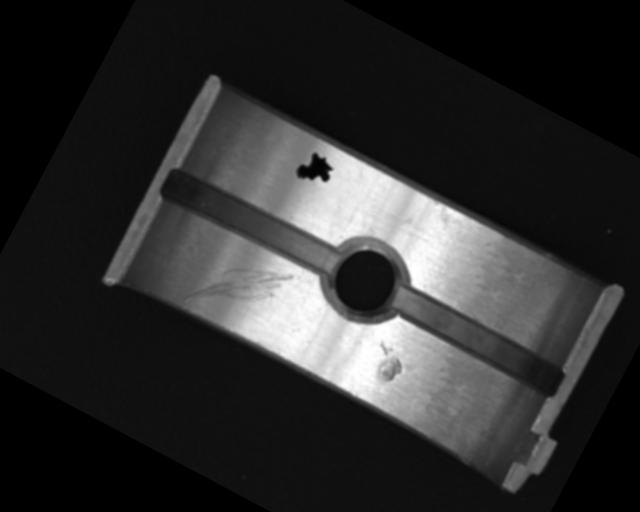blot: (292, 147, 338, 192)
bruise: (365, 339, 411, 386)
gap: (157, 162, 346, 286), (386, 282, 568, 399)
hole: (311, 225, 418, 333)
nick: (181, 234, 293, 342)
